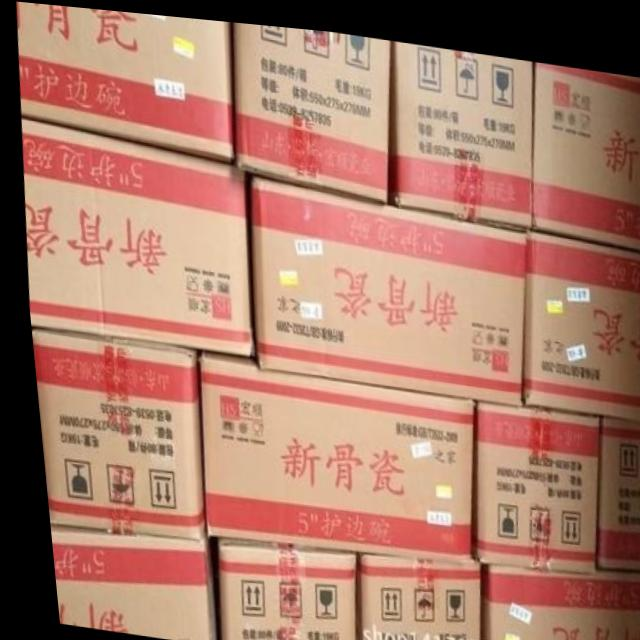box: (246, 172, 523, 395), (192, 348, 467, 554), (19, 117, 250, 353), (25, 329, 196, 538), (16, 1, 231, 159), (230, 17, 391, 196), (386, 33, 532, 220), (515, 220, 640, 409), (462, 391, 593, 563), (528, 51, 640, 239), (40, 522, 204, 640), (202, 537, 346, 640), (470, 554, 640, 640), (344, 547, 471, 640), (587, 404, 640, 559)
